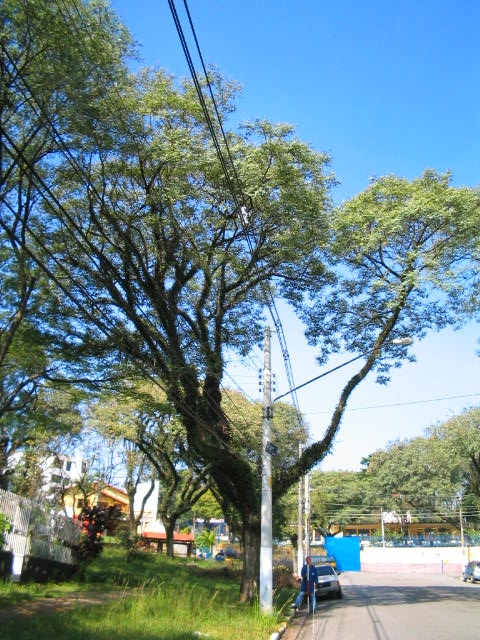crown: (20, 69, 476, 399)
stem: (230, 480, 291, 605)
stick: (301, 516, 313, 614)
tree: (18, 67, 478, 605)
